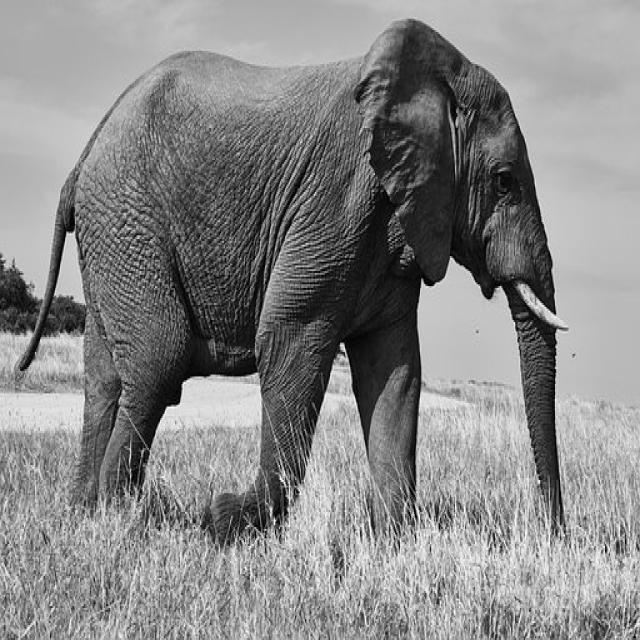Elephant: (32, 11, 581, 588)
